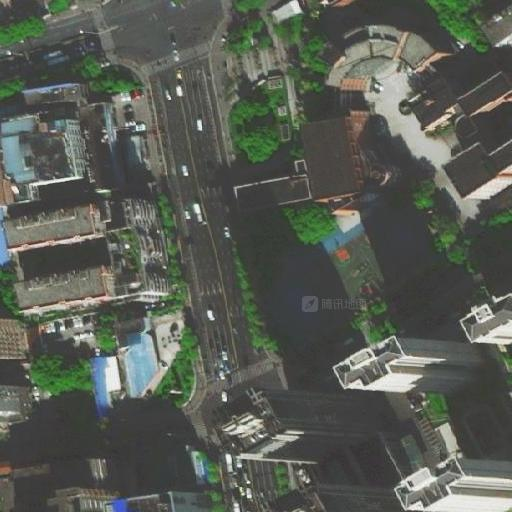building: (294, 111, 396, 201), (2, 110, 85, 196), (443, 107, 512, 205), (105, 199, 170, 301), (312, 28, 413, 92), (7, 201, 114, 253), (410, 337, 501, 398), (311, 394, 385, 465), (23, 266, 119, 317), (137, 429, 211, 490), (405, 75, 468, 145), (445, 44, 512, 101), (235, 171, 311, 216), (86, 100, 123, 191), (46, 450, 114, 496), (396, 31, 447, 82), (50, 478, 128, 511), (449, 473, 511, 511), (121, 338, 161, 391), (263, 66, 293, 134), (25, 82, 93, 108), (132, 486, 204, 510), (18, 320, 52, 362), (90, 356, 113, 417), (123, 132, 146, 176), (0, 91, 33, 121), (0, 386, 26, 415), (0, 460, 19, 475)
